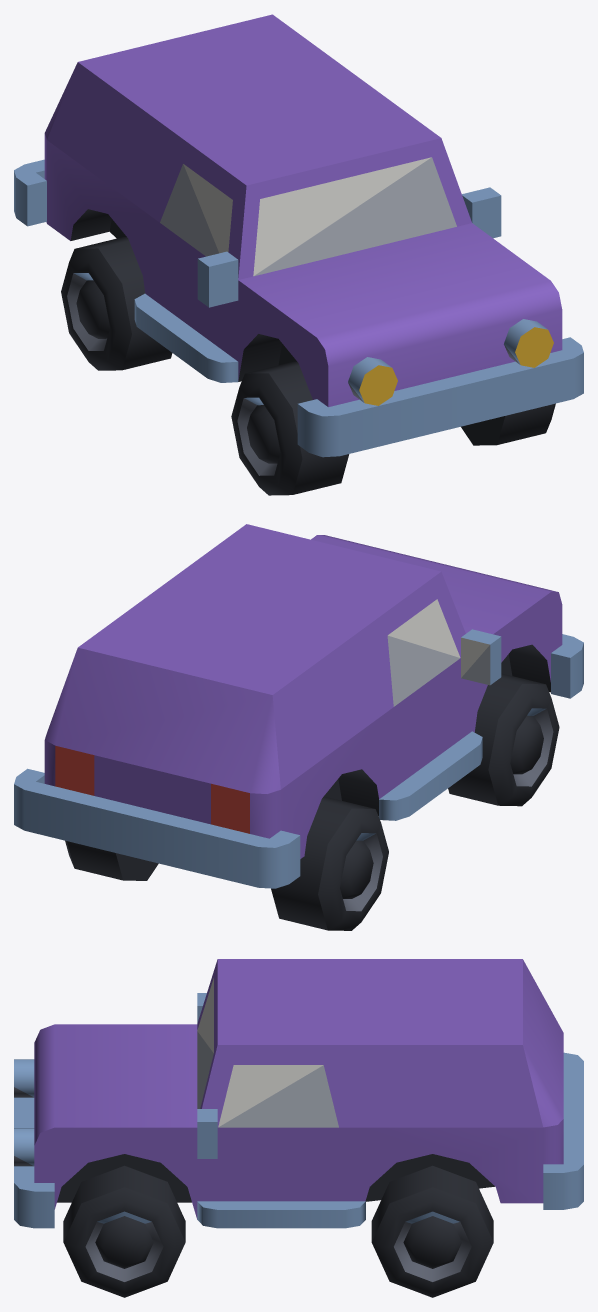
File: vehicle-truck-purple.glb
The picture shows the model from 3 angles, top to bottom: view 1: azimuth 30°, elevation 25°; view 2: azimuth 150°, elevation 25°; view 3: azimuth 270°, elevation 25°; orthographic projection. The views are drawn at different scales.
Parts seen in each view (by area): view 1: vehicle-truck-purple; view 2: vehicle-truck-purple; view 3: vehicle-truck-purple.
Part boxes in pixels (<box>): vehicle-truck-purple: <box>14,14,583,495</box>; vehicle-truck-purple: <box>14,524,583,930</box>; vehicle-truck-purple: <box>14,959,583,1297</box>.
Bounding box in the file's own units: 2.55 × 2.21 × 4.76.
